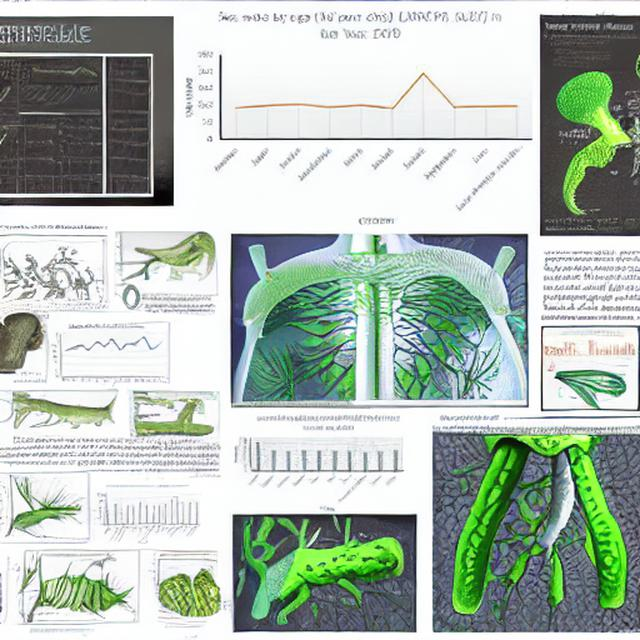Graph: (175, 3, 537, 229), (228, 411, 406, 512), (86, 483, 204, 548), (50, 323, 165, 389), (15, 56, 103, 107), (584, 332, 637, 364)
